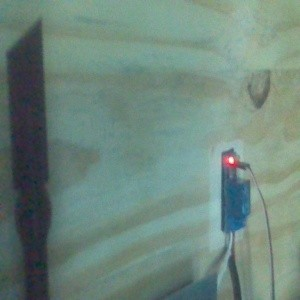cutter: (5, 17, 53, 300)
